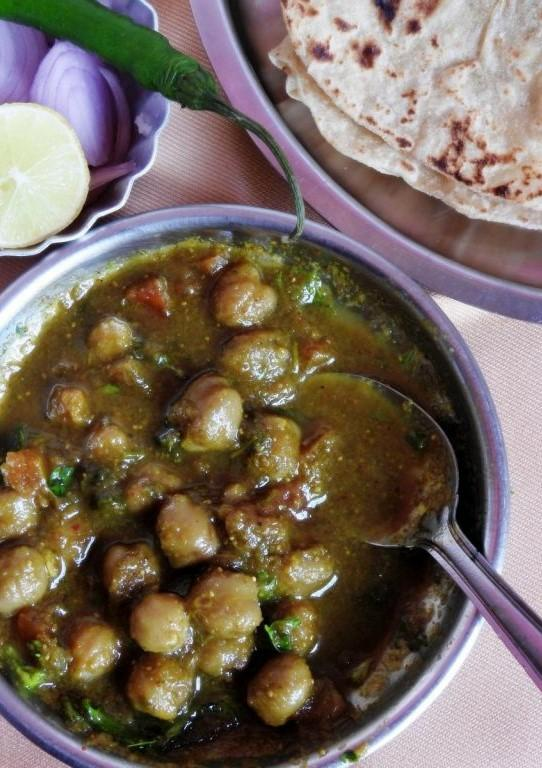Chole: (0, 244, 416, 768)
